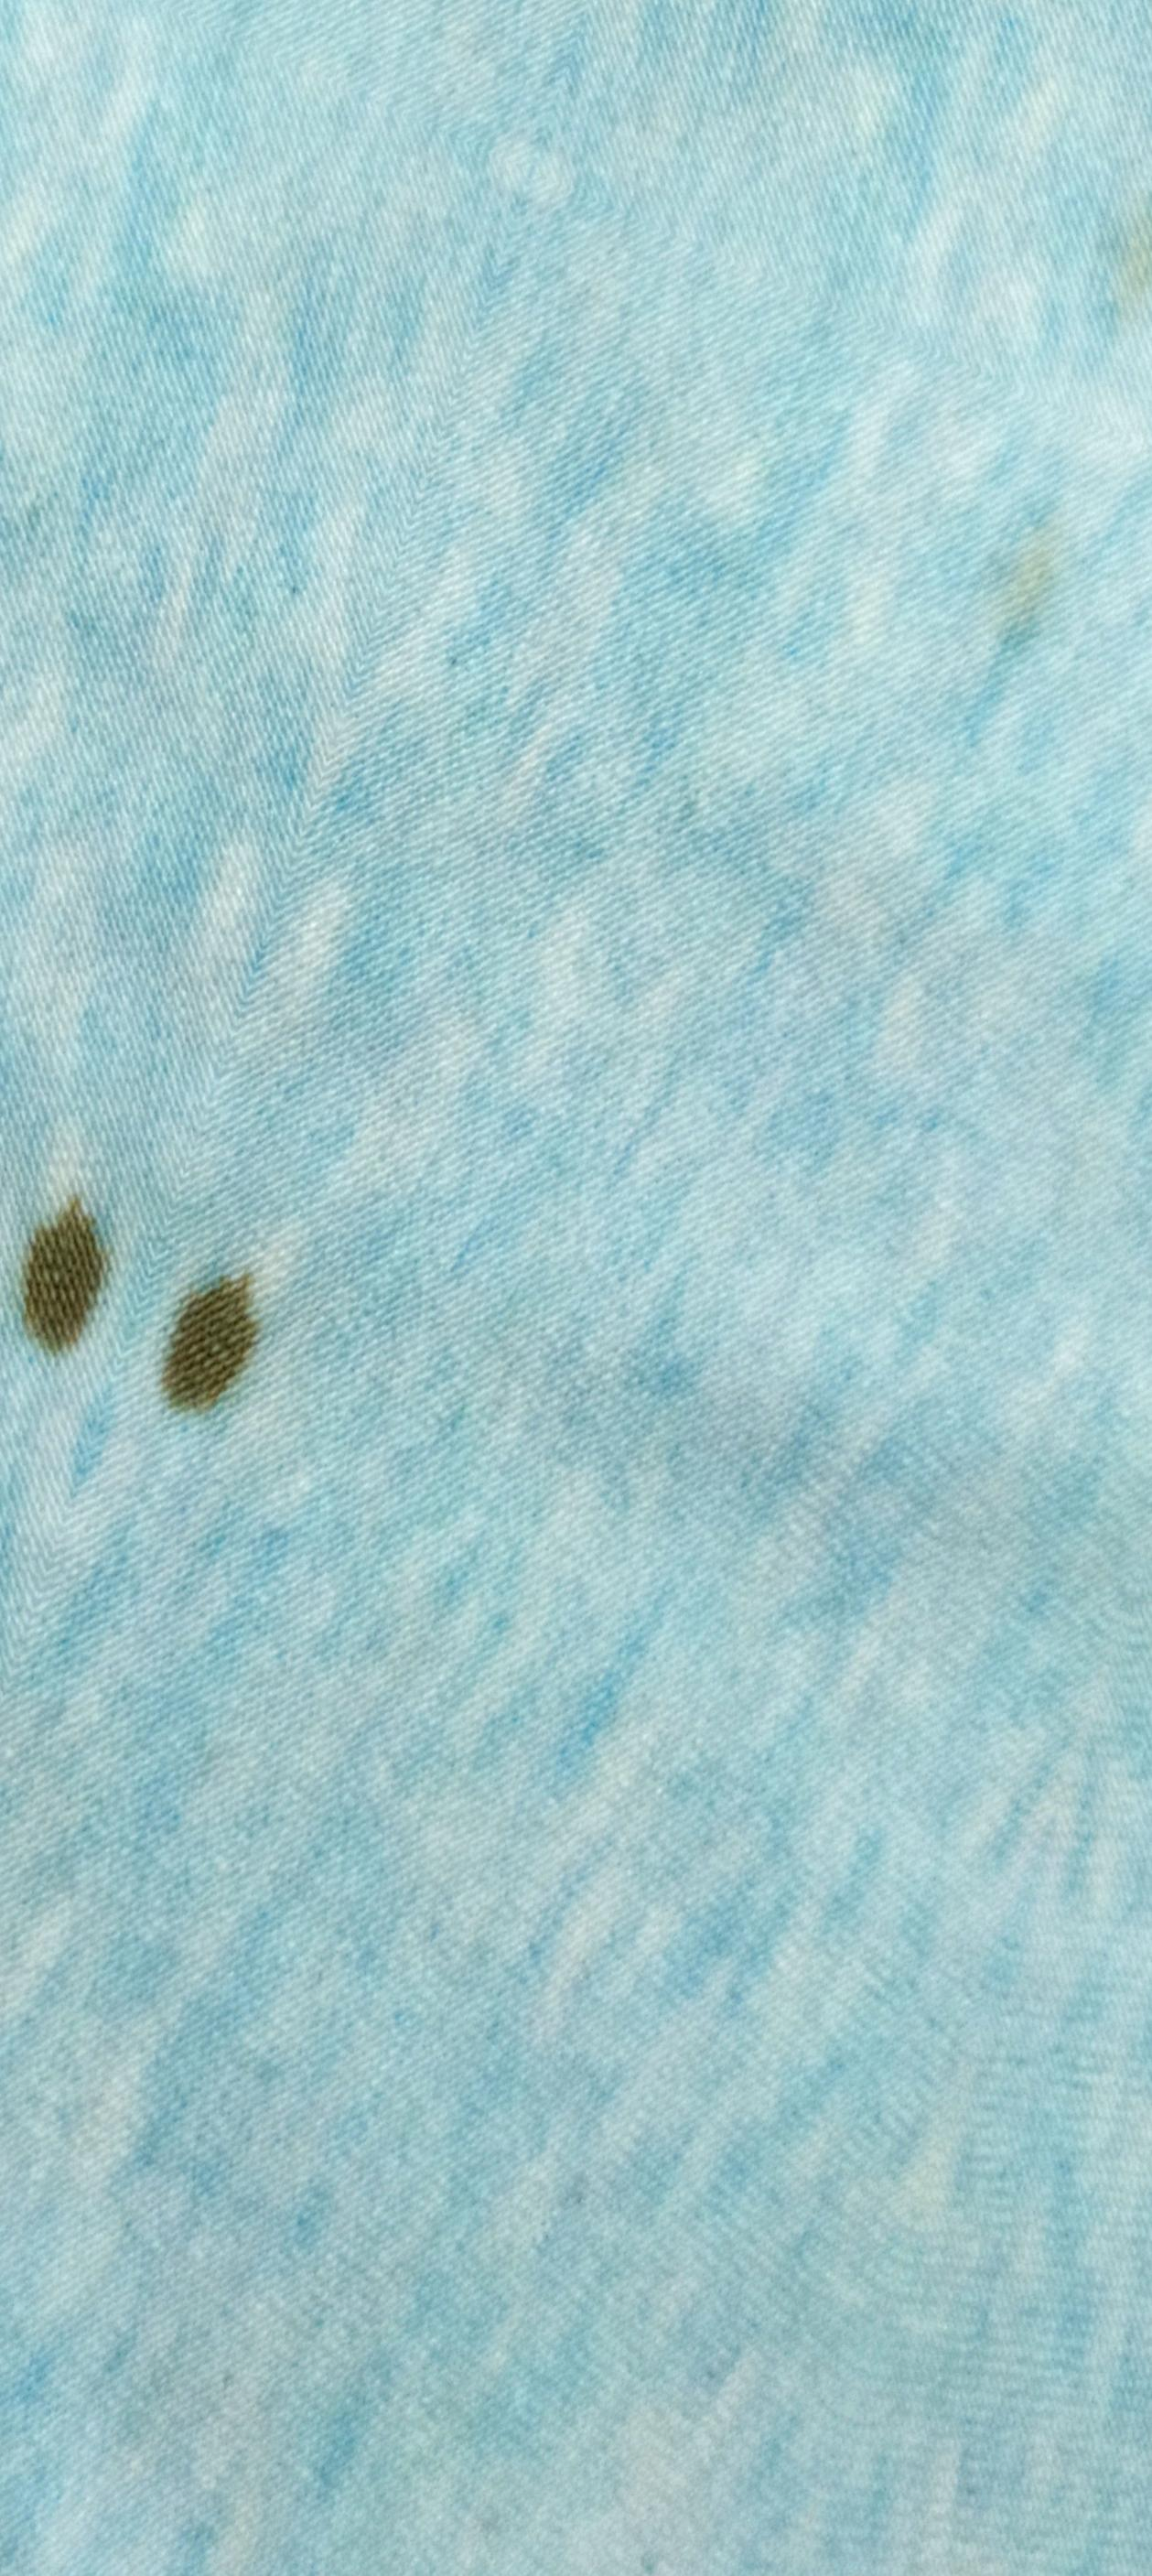stain: (150, 1235, 268, 1447), (13, 1147, 102, 1398)
